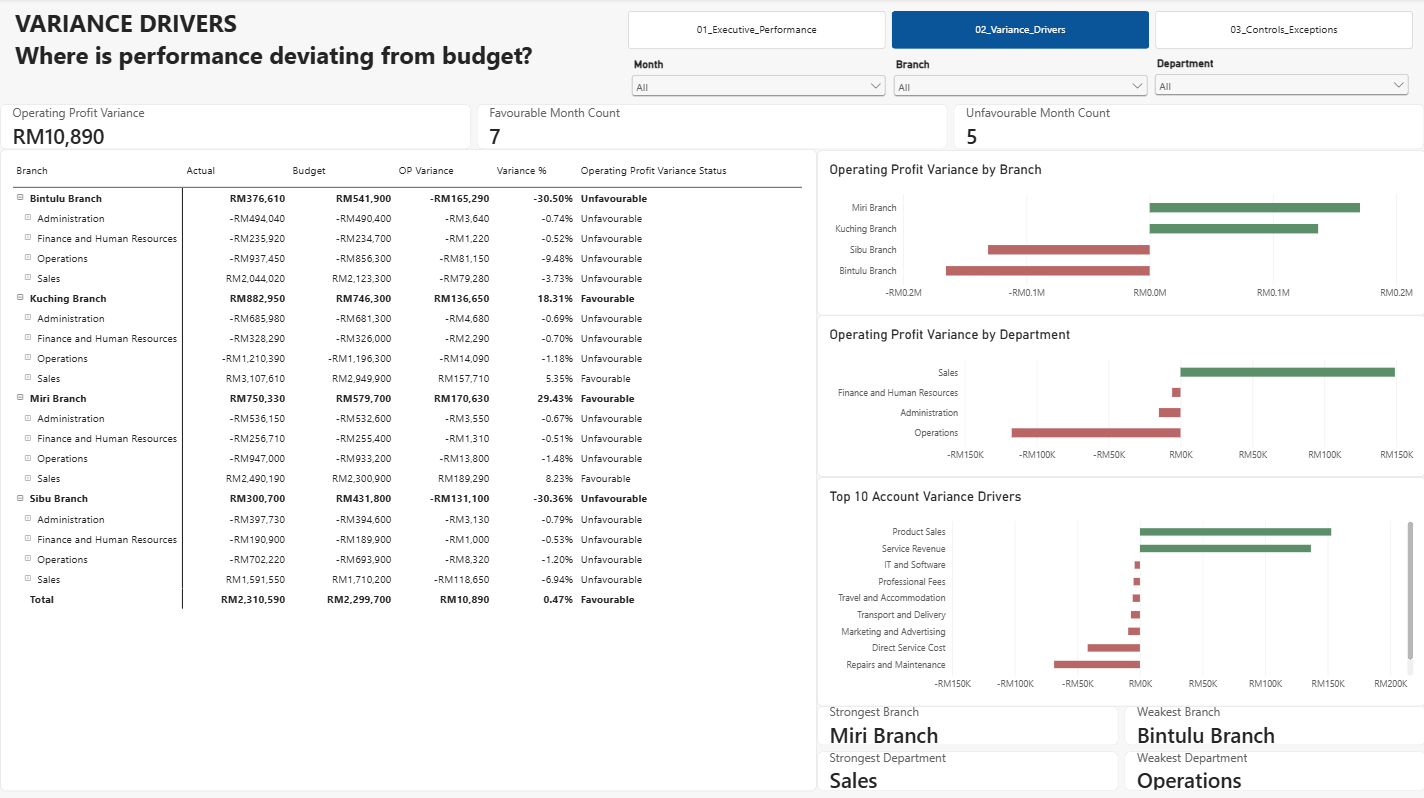

The page's visual inventory and layout, read from the dashboard file:
{"tool":"powerbi","page":{"name":"02_Variance_Drivers","canvas":[1920,1080],"ordinal":2},"visuals":[{"type":"textbox","box":[20.7,10.3,809.3,96.4],"z":0},{"type":"slicer","fields":{"Values":["dim_Month.MonthName"]},"box":[846.2,80.3,352,68.2],"z":0,"group":"g1"},{"type":"clusteredBarChart","title":"Operating Profit Variance by Branch","fields":{"Category":["dim_Branch.BranchName"],"Y":["_Measures.Operating Profit Variance"]},"box":[1100,204.9,820,222.8],"z":0,"group":"g2"},{"type":"group","id":"g1","title":"Group 1","box":[846.2,79.1,1056.1,69.4],"z":1000},{"type":"clusteredBarChart","title":"Operating Profit Variance by Department","fields":{"Category":["dim_Department.DepartmentName"],"Y":["_Measures.Operating Profit Variance"]},"box":[1100,427.7,820,218.1],"z":1000,"group":"g2"},{"type":"group","id":"g2","title":"Group 2","box":[0,18.1,1920,1051.5],"z":2000},{"type":"slicer","fields":{"Values":["dim_Branch.BranchName"]},"box":[1198.4,80.7,351.7,67.8],"z":2000,"group":"g1"},{"type":"clusteredBarChart","title":"Top 10 Account Variance Drivers","fields":{"Category":["dim_Account.AccountName"],"Y":["_Measures.Operating Profit Variance"]},"box":[1100,645.8,820,308.5],"z":2000,"group":"g2"},{"type":"slicer","fields":{"Values":["dim_Department.DepartmentName"]},"box":[1550.3,79.1,352,69.4],"z":3000,"group":"g1"},{"type":"pivotTable","fields":{"Rows":["dim_Branch.BranchName","dim_Department.DepartmentName","dim_Account.AccountName"],"Values":["_Measures.Actual P&L Contribution","_Measures.Budget P&L Contribution","_Measures.Operating Profit Variance","_Measures.Driver Variance %","_Measures.Operating Profit Variance Status"]},"box":[0,204.6,1100,865],"z":3000,"group":"g2"},{"type":"cardVisual","fields":{"Data":["_Measures.Strongest Branch","_Measures.Weakest Branch","_Measures.Strongest Department","_Measures.Weakest Department"]},"box":[1100,954.3,820,115.2],"z":4000,"group":"g2"},{"type":"cardVisual","fields":{"Data":["_Measures.Operating Profit Variance","_Measures.Favourable Month Count","_Measures.Unfavourable Month Count"]},"box":[0,142.7,1920,61.9],"z":5000,"group":"g2"},{"type":"pageNavigator","box":[846.2,18.1,1057.7,51.7],"z":6000,"group":"g2"}]}

Visuals, with their boxes in screenshot pixels (x1, y1, x2, y2), scaled from the page's 1920x1080 canvas onto the 1424x798 screenshot:
textbox: (15,8,616,79)
slicer - dim_Month.MonthName: (628,59,889,110)
"Operating Profit Variance by Branch" clusteredBarChart: (816,151,1423,316)
"Group 1" group: (628,58,1411,110)
"Operating Profit Variance by Department" clusteredBarChart: (816,316,1423,477)
"Group 2" group: (0,13,1423,790)
slicer - dim_Branch.BranchName: (889,60,1150,110)
"Top 10 Account Variance Drivers" clusteredBarChart: (816,477,1423,705)
slicer - dim_Department.DepartmentName: (1150,58,1411,110)
pivotTable - dim_Branch.BranchName x dim_Department.DepartmentName: (0,151,816,790)
cardVisual - _Measures.Strongest Branch x _Measures.Weakest Branch: (816,705,1423,790)
cardVisual - _Measures.Operating Profit Variance x _Measures.Favourable Month Count: (0,105,1423,151)
pageNavigator: (628,13,1412,52)
